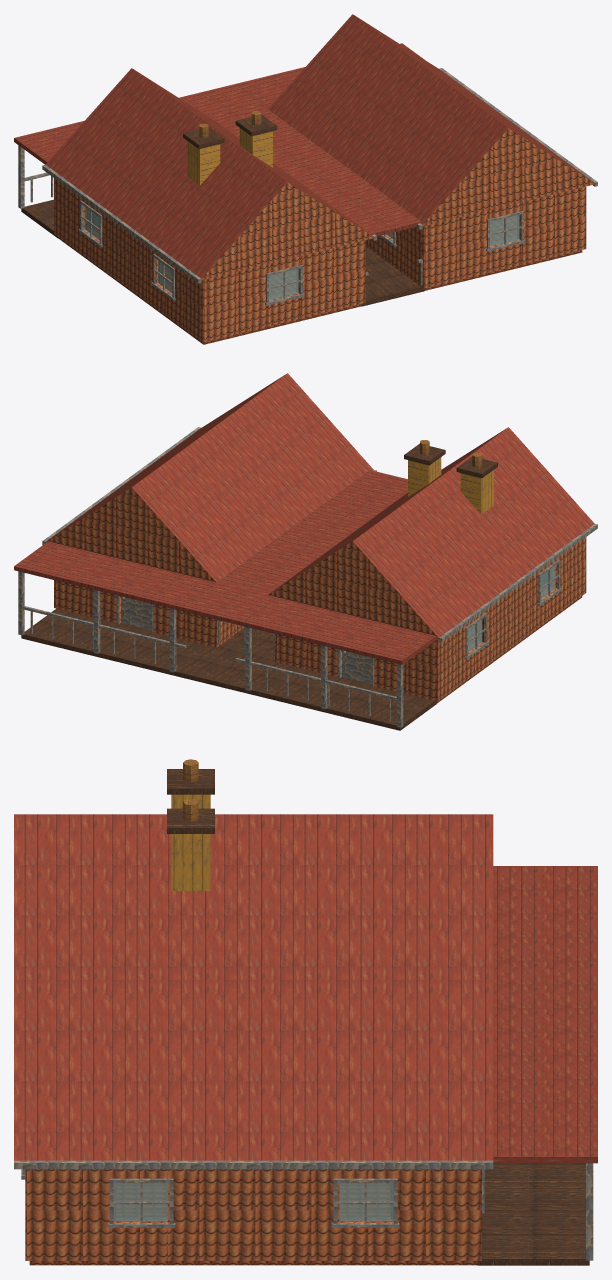
The model's file is dogwood-breezeway.gltf.
3 views of the same model, one above another, from view 1: azimuth 30°, elevation 25°; view 2: azimuth 150°, elevation 25°; view 3: azimuth 270°, elevation 25° (orthographic). The views are drawn at different scales.
Parts seen in each view (by area): view 1: roof-L0-brown-shingle, exterior-L0-wood, roof-L0-wood, porch-L0-brown-shingle, porch-L0-stone, trim-L0-dark-wood, floor-L0-floor, glazing-L0-glass, details-L0-brick, roof-L0-dark-wood, details-L0-stone, porch-L0-dark-wood; view 2: roof-L0-brown-shingle, porch-L0-brown-shingle, exterior-L0-wood, porch-L0-stone, roof-L0-wood, porch-L0-dark-wood, details-L0-brick, roof-L0-dark-wood, trim-L0-dark-wood, door-leaf-L0-dark-wood (×2), details-L0-stone, glazing-L0-glass; view 3: roof-L0-brown-shingle, exterior-L0-wood, porch-L0-brown-shingle, porch-L0-stone, floor-L0-floor, roof-L0-dark-wood, glazing-L0-glass, trim-L0-dark-wood, details-L0-brick, details-L0-stone, porch-L0-dark-wood, details-L0-terracotta.
Boxes of the visible parts, bbox=[...] form: roof-L0-brown-shingle: bbox=[45, 14, 592, 278]; exterior-L0-wood: bbox=[54, 178, 586, 342]; roof-L0-wood: bbox=[201, 128, 595, 279]; porch-L0-brown-shingle: bbox=[14, 43, 424, 236]; porch-L0-stone: bbox=[21, 199, 424, 306]; trim-L0-dark-wood: bbox=[78, 200, 525, 305]; floor-L0-floor: bbox=[58, 216, 582, 344]; glazing-L0-glass: bbox=[85, 207, 519, 300]; details-L0-brick: bbox=[187, 128, 272, 185]; roof-L0-dark-wood: bbox=[42, 68, 597, 283]; details-L0-stone: bbox=[183, 114, 277, 148]; porch-L0-dark-wood: bbox=[18, 145, 422, 285]; roof-L0-brown-shingle: bbox=[49, 373, 594, 637]; porch-L0-brown-shingle: bbox=[14, 470, 437, 664]; exterior-L0-wood: bbox=[54, 537, 586, 701]; porch-L0-stone: bbox=[21, 608, 436, 730]; roof-L0-wood: bbox=[45, 487, 438, 639]; porch-L0-dark-wood: bbox=[18, 571, 403, 727]; details-L0-brick: bbox=[408, 457, 493, 514]; roof-L0-dark-wood: bbox=[42, 427, 597, 642]; trim-L0-dark-wood: bbox=[116, 559, 561, 686]; door-leaf-L0-dark-wood (×2): bbox=[121, 597, 371, 683]; details-L0-stone: bbox=[404, 443, 497, 477]; glazing-L0-glass: bbox=[468, 566, 555, 651]; roof-L0-brown-shingle: bbox=[14, 814, 493, 1160]; exterior-L0-wood: bbox=[25, 1169, 481, 1260]; porch-L0-brown-shingle: bbox=[493, 866, 597, 1163]; porch-L0-stone: bbox=[477, 1163, 589, 1265]; floor-L0-floor: bbox=[29, 1184, 477, 1265]; roof-L0-dark-wood: bbox=[14, 1160, 493, 1169]; glazing-L0-glass: bbox=[113, 1183, 393, 1221]; trim-L0-dark-wood: bbox=[21, 1169, 484, 1227]; details-L0-brick: bbox=[171, 794, 210, 890]; details-L0-stone: bbox=[167, 769, 214, 833]; porch-L0-dark-wood: bbox=[586, 1163, 593, 1260]; details-L0-terracotta: bbox=[183, 759, 198, 821].
Bounding box in the file's own units: 12.66 × 5.1 × 10.43.
Materials: 10 (9 with a texture image).
